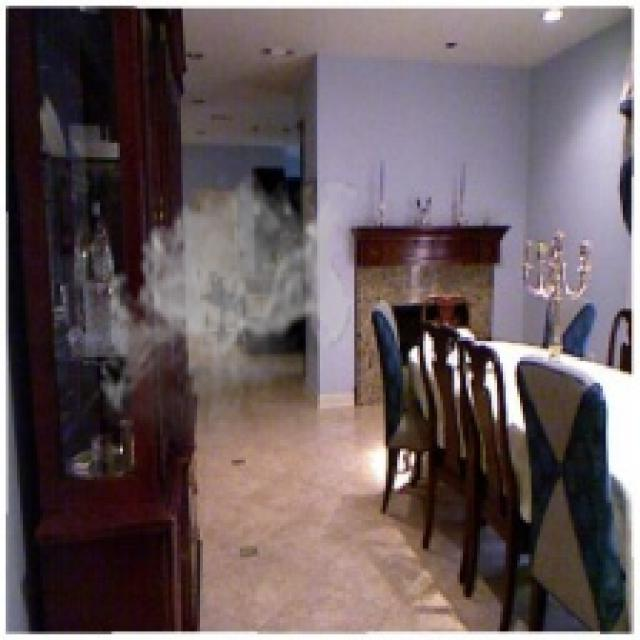smoke: (92, 171, 357, 446)
